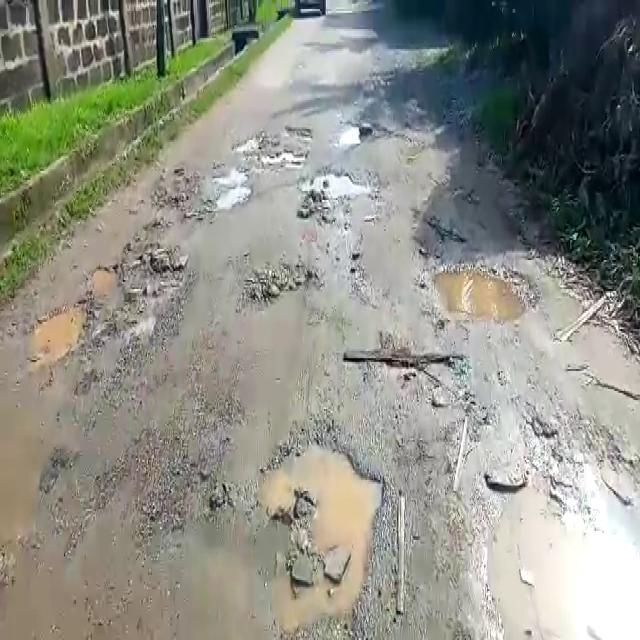Pothole: (486, 425, 640, 640), (254, 425, 387, 640), (68, 253, 194, 333), (427, 256, 539, 321), (27, 302, 90, 363), (294, 171, 374, 215), (204, 168, 254, 214), (244, 143, 316, 166)
